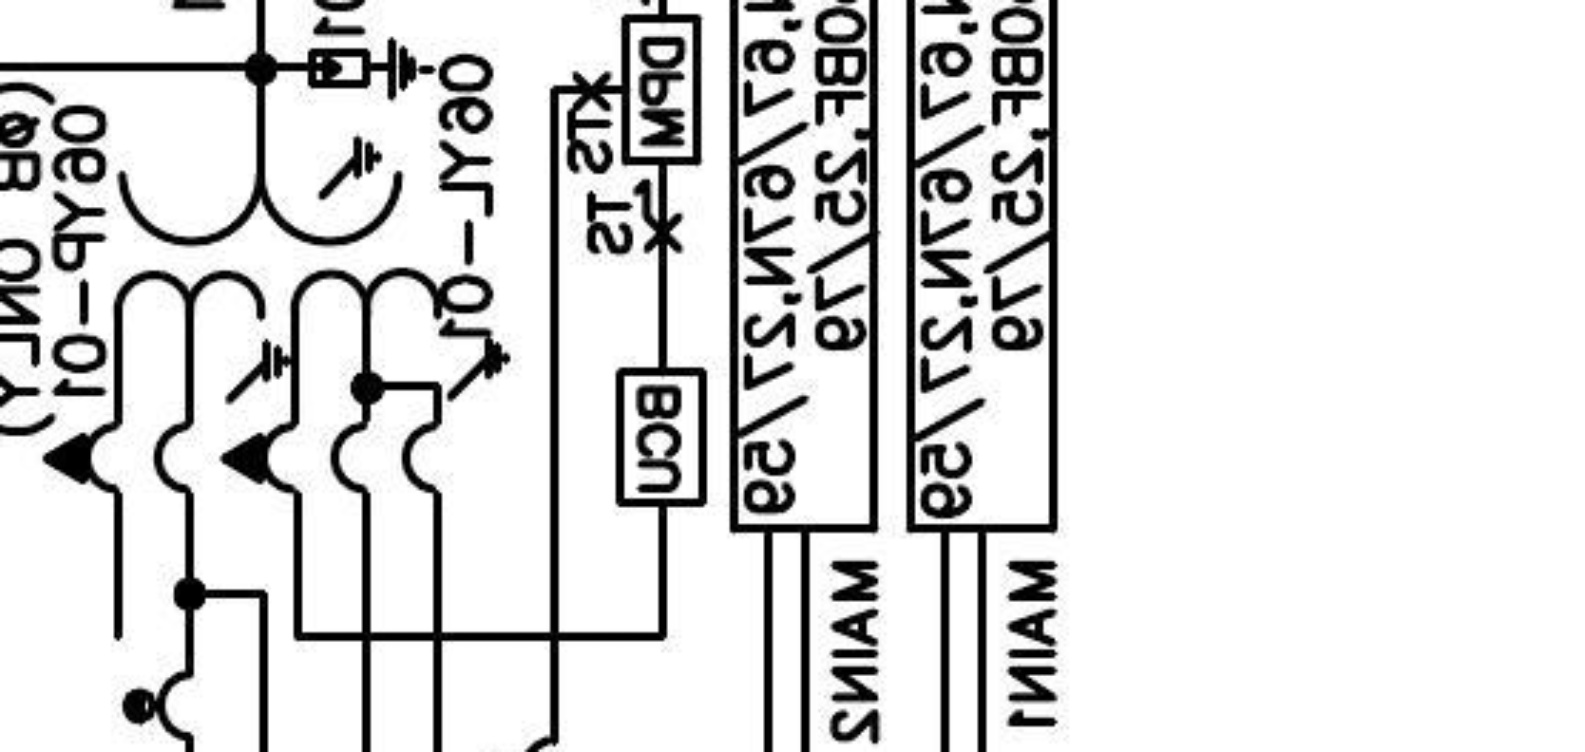115_la: (307, 35, 438, 103)
115_vt_1p: (41, 132, 512, 499)
BCU: (615, 365, 709, 509)
DPM: (620, 12, 703, 166)
